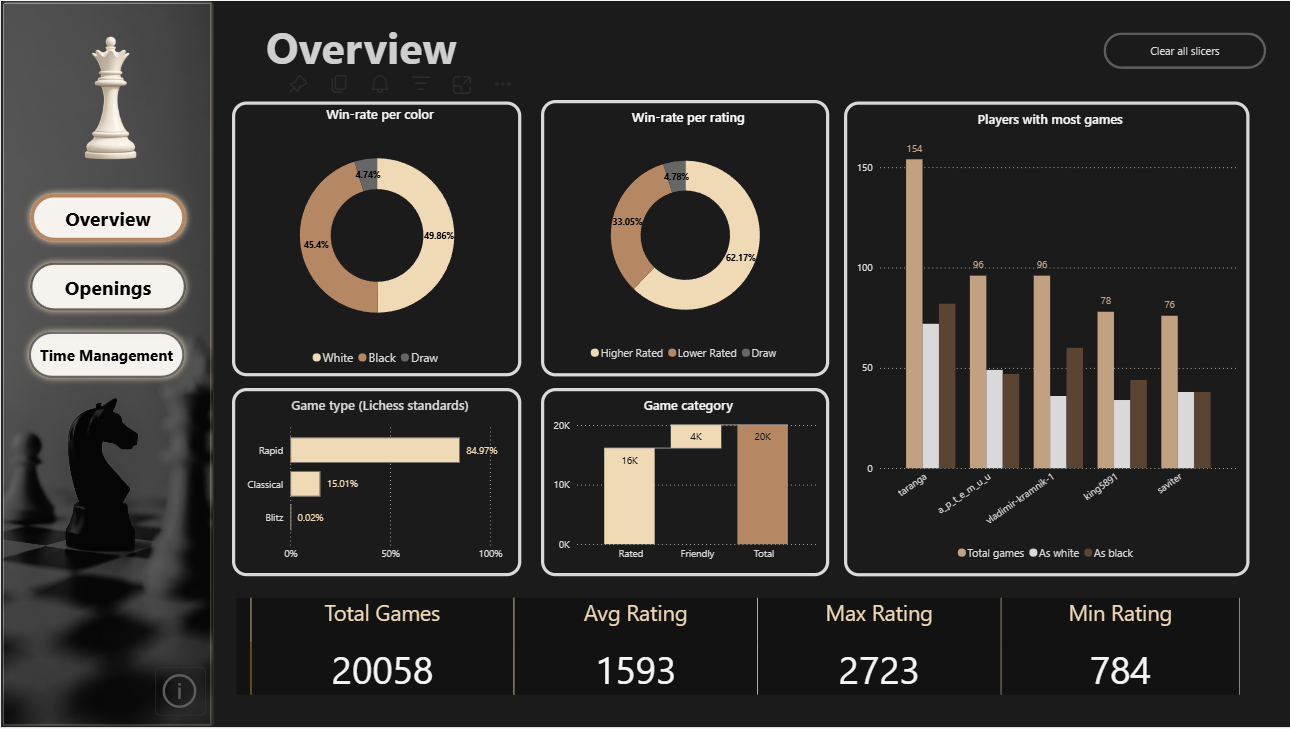

Layout of this report page (visuals, bound fields, positions):
{"tool":"powerbi","page":{"name":"Overview","canvas":[1600,900],"ordinal":0},"visuals":[{"type":"donutChart","title":"Win-rate per color","fields":{"Category":["chess_games.winner"],"Y":["CountNonNull(chess_games.winner)"]},"box":[286.1,123.9,359,340.8],"z":0},{"type":"donutChart","title":"Win-rate per rating","fields":{"Category":["chess_games.who won?"],"Y":["CountNonNull(chess_games.who won?)"]},"box":[668.8,122.1,357.2,342.6],"z":1000},{"type":"clusteredBarChart","title":"Game type (Lichess standards)","fields":{"Category":["chess_games.game_type (Lichess standards)"],"Y":["Divide(CountNonNull(chess_games.game_id), ScopedEval(CountNonNull(chess_games.game_id), []))"]},"box":[286.1,479.3,359,233.3],"z":2000},{"type":"waterfallChart","title":"Game category","fields":{"Category":["chess_games.rated"],"Y":["Divide(CountNonNull(chess_games.game_id), ScopedEval(CountNonNull(chess_games.game_id), []))"]},"box":[668.8,479.3,357.2,233.3],"z":3000},{"type":"shape","box":[0,0,263.9,901.2],"z":4000},{"type":"clusteredColumnChart","title":"Players with most games","fields":{"Category":["player.player_id"],"Y":["Sum(player.total_games Hierarchy.total_games)","Sum(player.total_games Hierarchy.games_played_as_white)","Sum(player.total_games Hierarchy.games_played _as_black)"]},"box":[1044.2,123.9,503,588.6],"z":5000},{"type":"image","box":[2.1,0,261.8,899.1],"z":6000},{"type":"actionButton","box":[175.7,816.8,61.9,59.9],"z":7000},{"type":"actionButton","box":[28,229.7,209.7,75.9],"z":8000},{"type":"actionButton","box":[26,401.4,209.7,73.9],"z":10000},{"type":"actionButton","box":[1366.8,38.6,201.7,45.1],"z":11000},{"type":"actionButton","box":[28,315.5,209.7,75.9],"z":12000},{"type":"textbox","box":[323.5,14,541.2,83.9],"z":13000},{"type":"pivotTable","fields":{"Values":["CountNonNull(chess_games.game_id)","chess_games.Avg Rating","chess_games.Max Rating","chess_games.Min Rating"]},"box":[286.1,734.4,1261,142.1],"z":14000},{"type":"image","box":[47.9,37.9,175.7,165.8],"z":15000}]}

Visuals, with their boxes in screenshot pixels (x1, y1, x2, y2), scaled from the page's 1600x900 canvas onto the 1290x729 screenshot:
"Win-rate per color" donutChart: [x1=231, y1=100, x2=520, y2=376]
"Win-rate per rating" donutChart: [x1=539, y1=99, x2=827, y2=376]
"Game type (Lichess standards)" clusteredBarChart: [x1=231, y1=388, x2=520, y2=577]
"Game category" waterfallChart: [x1=539, y1=388, x2=827, y2=577]
shape: [x1=0, y1=0, x2=213, y2=728]
"Players with most games" clusteredColumnChart: [x1=842, y1=100, x2=1247, y2=577]
image: [x1=2, y1=0, x2=213, y2=728]
actionButton: [x1=142, y1=662, x2=192, y2=710]
actionButton: [x1=23, y1=186, x2=192, y2=248]
actionButton: [x1=21, y1=325, x2=190, y2=385]
actionButton: [x1=1102, y1=31, x2=1265, y2=68]
actionButton: [x1=23, y1=256, x2=192, y2=317]
textbox: [x1=261, y1=11, x2=697, y2=79]
pivotTable - CountNonNull(chess_games.game_id) x chess_games.Avg Rating: [x1=231, y1=595, x2=1247, y2=710]
image: [x1=39, y1=31, x2=180, y2=165]
